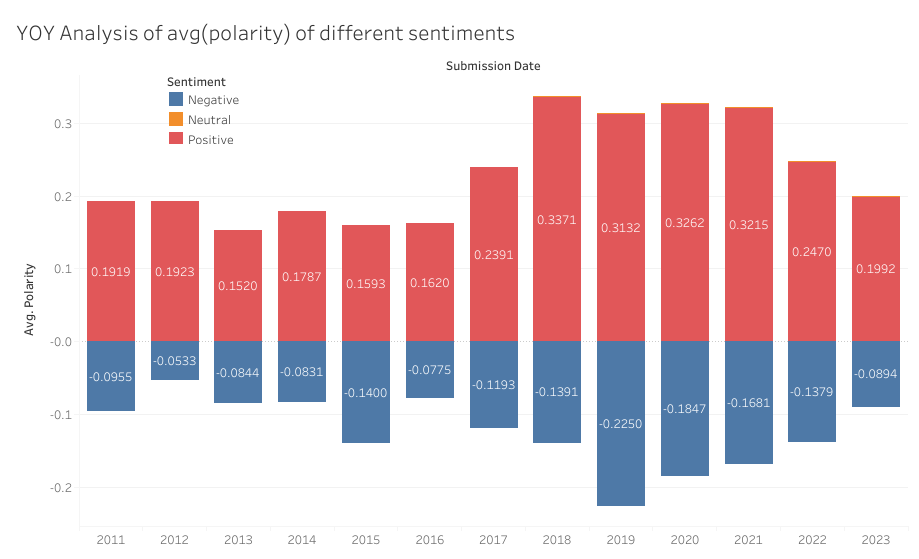

The dashboard page shown, as its layout file describes it:
{"tool":"tableau","page":{"name":"Dashboard 3","canvas":[1000,1000],"units":"permille","ordinal":2},"visuals":[{"type":"worksheet","title":"Polarity","mark":"Bar","rows":["Polarity"],"cols":["submissionDate"],"box":[8.7,13.5,982.6,973]},{"type":"legend","title":"Polarity","param":"[federated.0jm1nr10x0v2l9180miyk1nluf14].[none:Sentiment:nk]","box":[180,124.8,215.4,131.5]}]}

Visuals, with their boxes on the dashboard's canvas, which has no fixed pixel size, in thousandths of its width and height (x1, y1, x2, y2). These are canvas units, not pixel positions in the 919x559 screenshot, which may show the page scaled, cropped or inside an application window:
"Polarity" worksheet (Bar marks): x1=9, y1=14, x2=991, y2=986
"Polarity" legend: x1=180, y1=125, x2=395, y2=256
